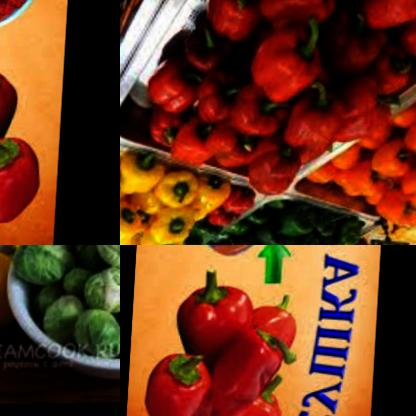bell pepper: (139, 0, 416, 199), (299, 30, 416, 239), (120, 153, 240, 245), (169, 265, 267, 367), (213, 330, 289, 414), (200, 209, 377, 245), (147, 348, 220, 416), (249, 291, 308, 363), (0, 132, 46, 224), (196, 374, 293, 416), (0, 49, 32, 151)
brus capusta: (11, 245, 120, 360)
